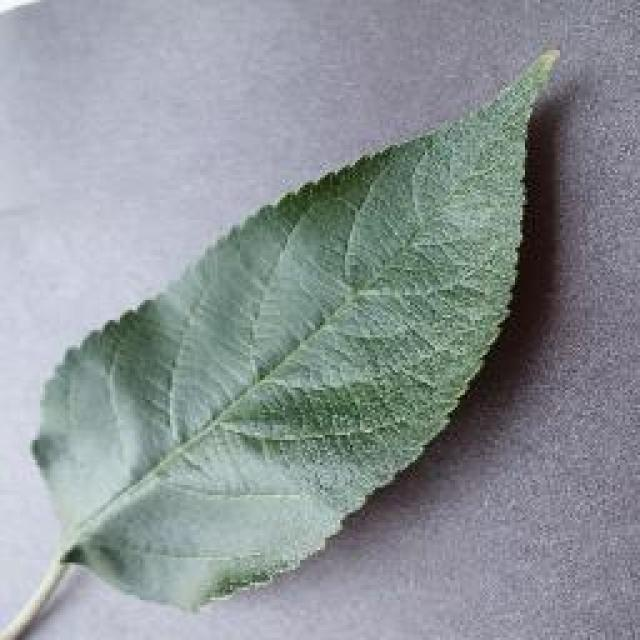apple healthy: (0, 35, 565, 637)
